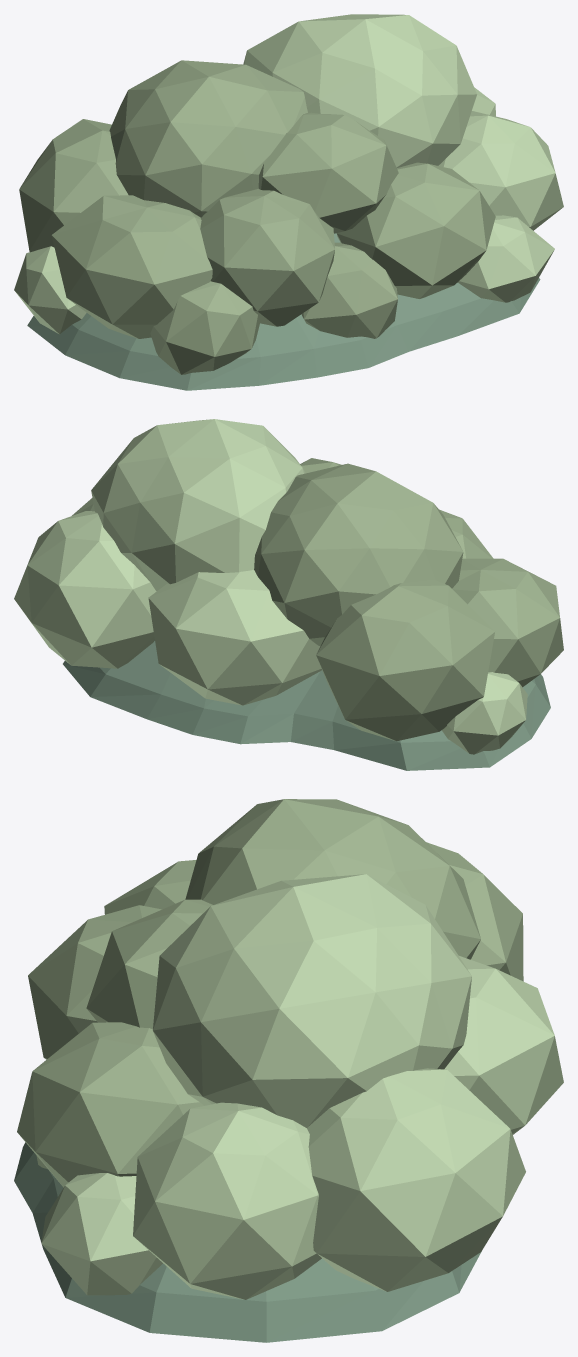
The model's file is round-bush-cd2ac0.glb.
3 views of the same model, one above another, from view 1: azimuth 30°, elevation 25°; view 2: azimuth 150°, elevation 25°; view 3: azimuth 270°, elevation 25° (orthographic). The views are drawn at different scales.
Parts seen in each view (by area): view 1: round-bush-mesh; view 2: round-bush-mesh; view 3: round-bush-mesh.
Part boxes in pixels (x1,y1,x2,y2): round-bush-mesh: [14, 14, 563, 390]; round-bush-mesh: [14, 419, 563, 770]; round-bush-mesh: [14, 799, 563, 1342].
Size of the model in its own units: 1.27 by 0.6257 by 0.8665.
